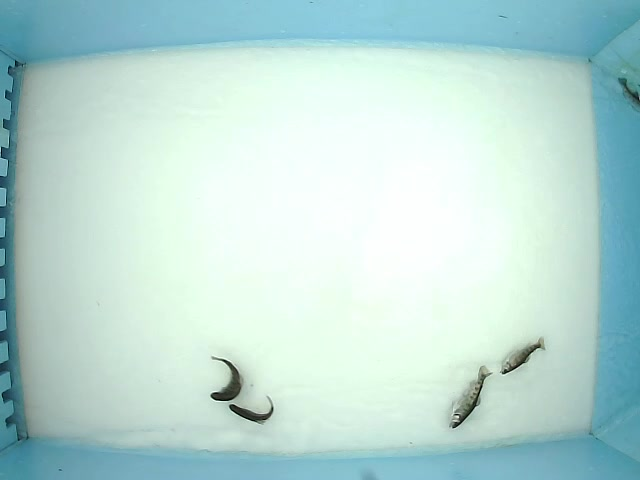fish: (447, 364, 494, 431), (499, 334, 546, 375), (210, 356, 243, 402), (229, 394, 275, 426)
